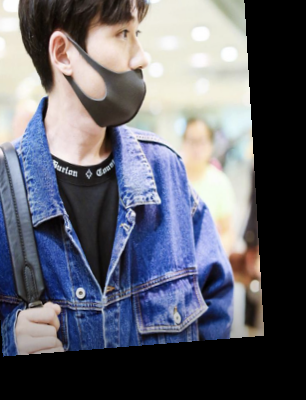mask_weared_incorrect: (11, 1, 156, 133)
